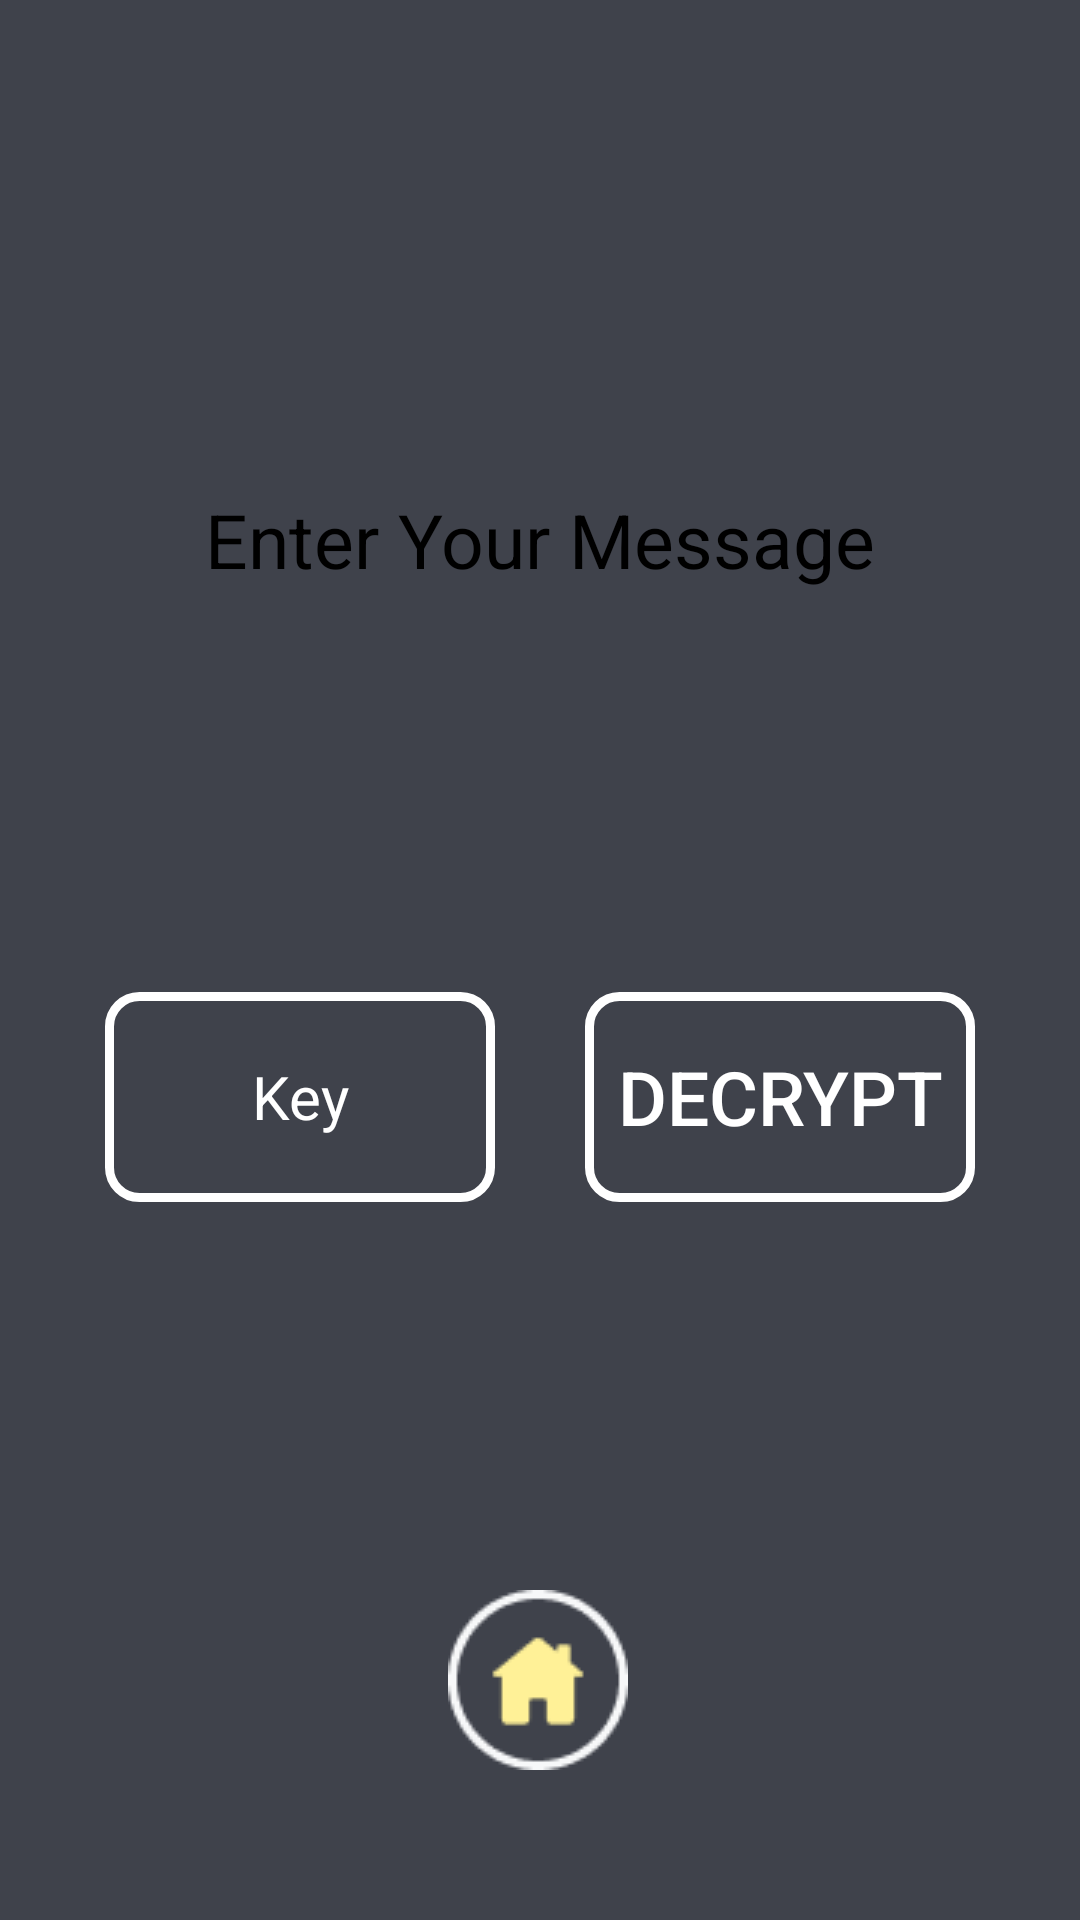

Where to tap for icons on this 1080×1920 app screen, as [x,y]:
home: [538,1680]
